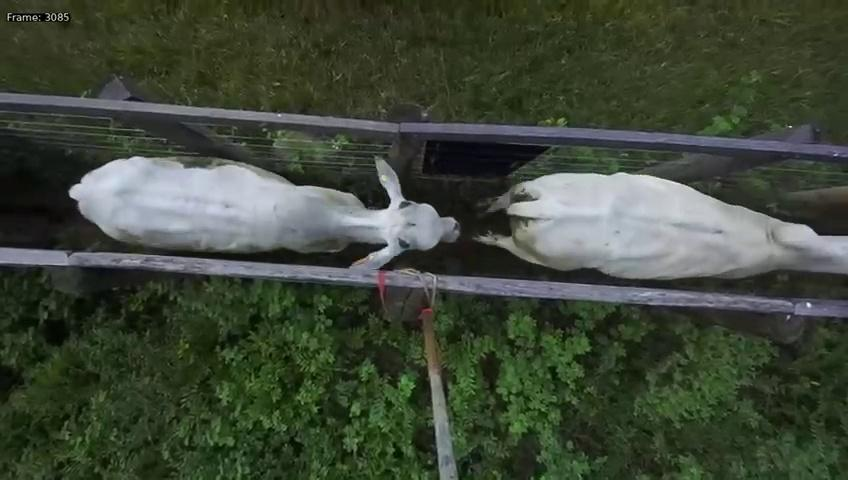cattle: (62, 150, 464, 281), (477, 157, 848, 286)
